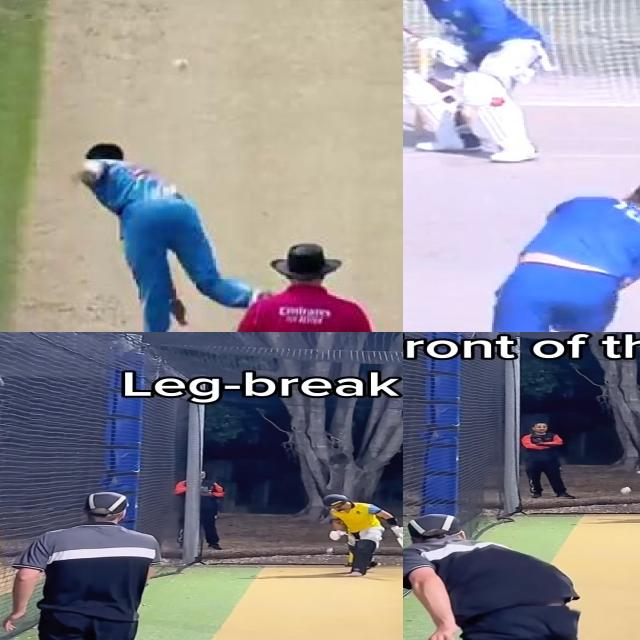Cricket ball: (485, 95, 507, 109), (175, 57, 189, 77), (620, 487, 632, 494), (325, 548, 335, 554)
